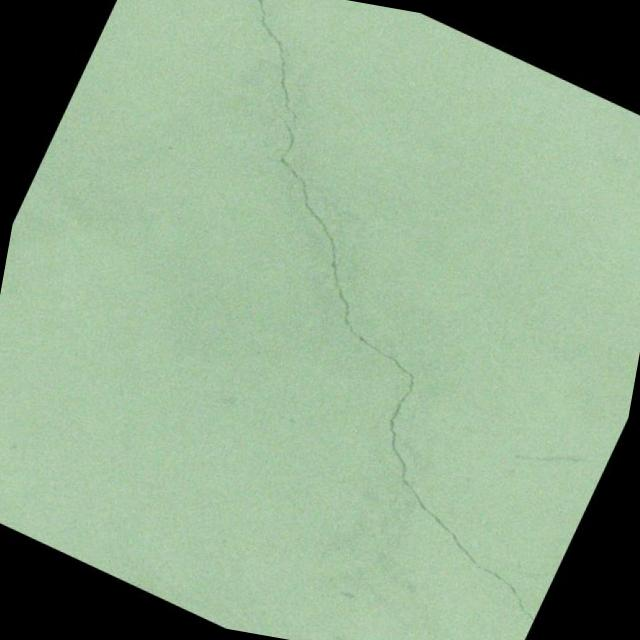crack: (101, 89, 640, 632), (88, 0, 355, 137)
